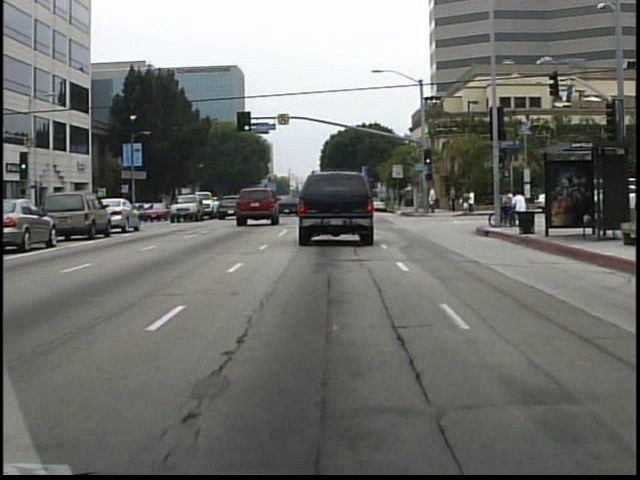person: (425, 184, 439, 218), (447, 181, 460, 216), (394, 186, 405, 212)
